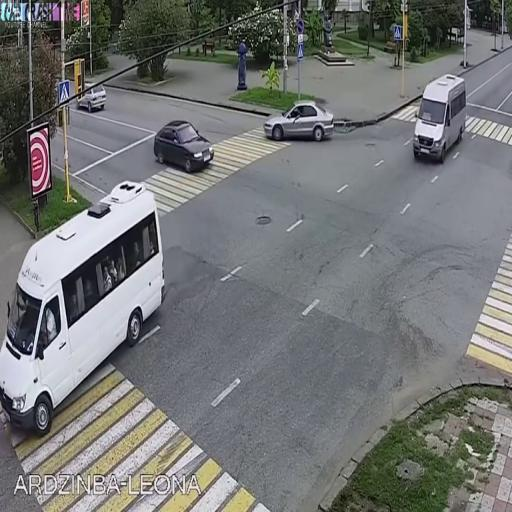小汽车: (1, 182, 168, 431), (410, 72, 468, 162), (154, 113, 217, 174), (264, 102, 334, 140), (76, 82, 108, 110)
